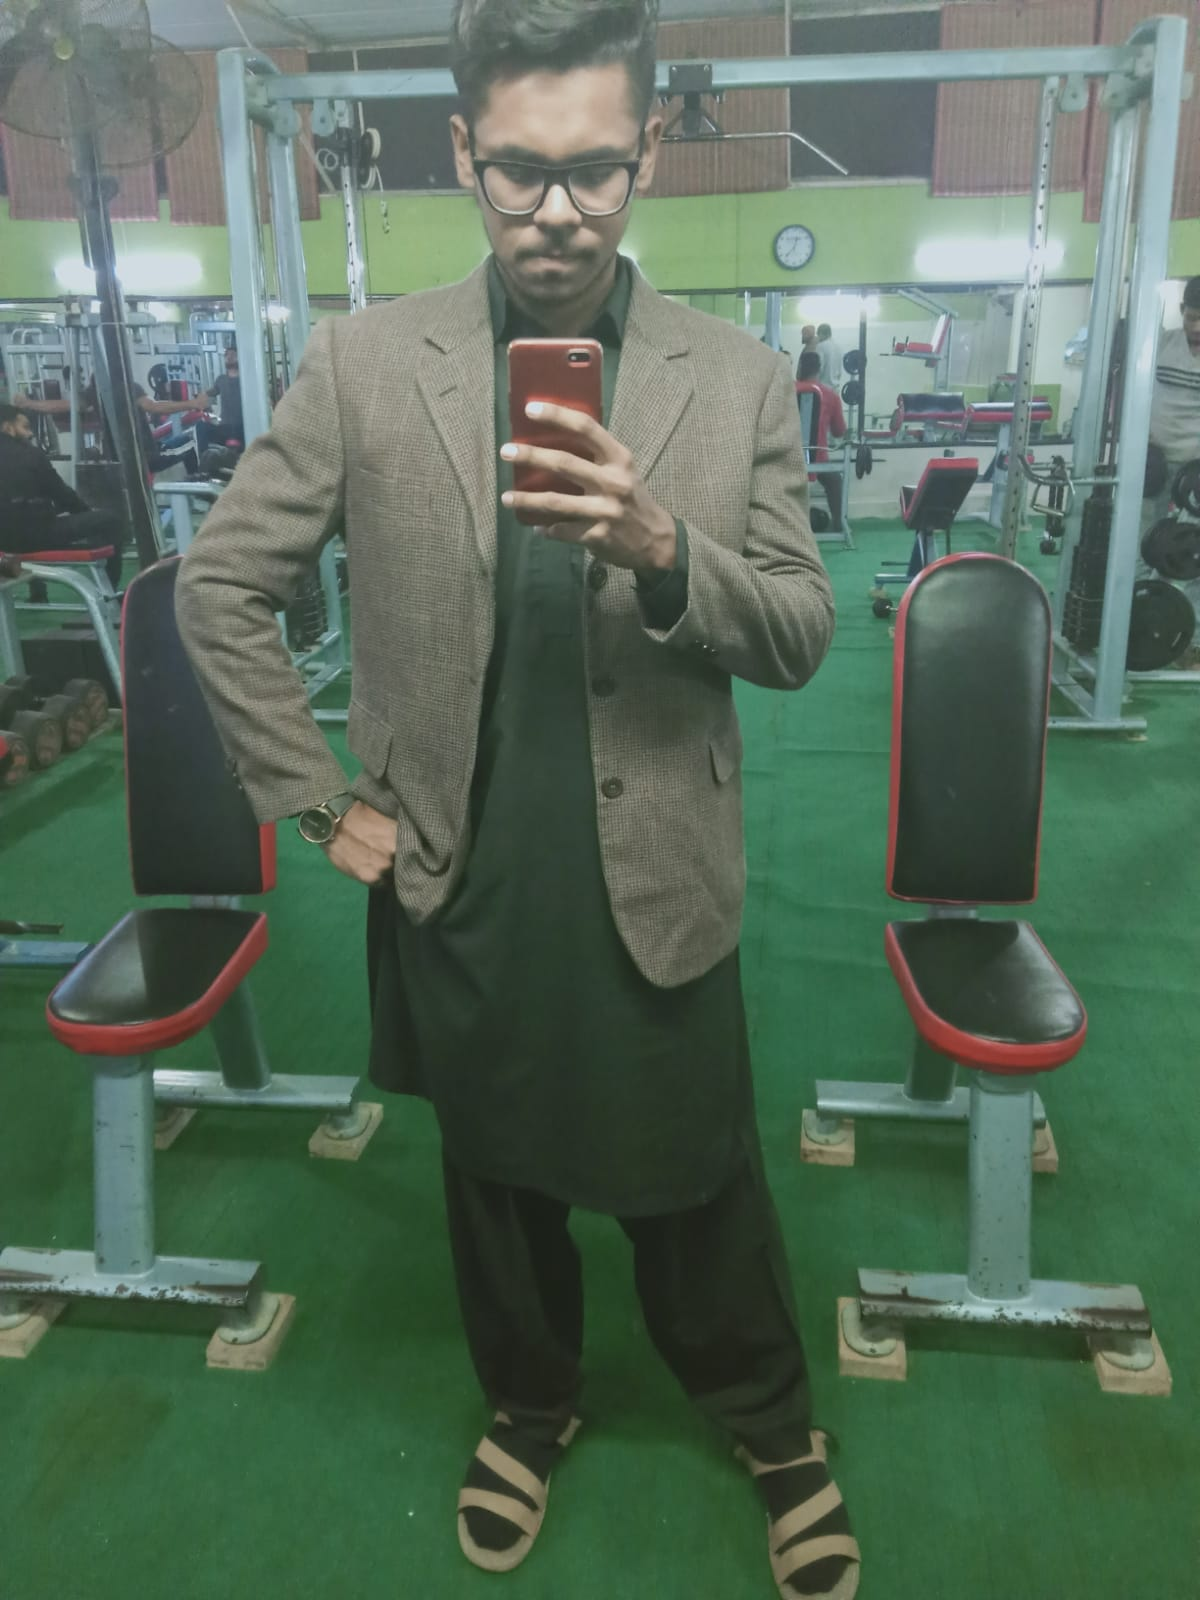NoMask: (475, 130, 630, 302)
